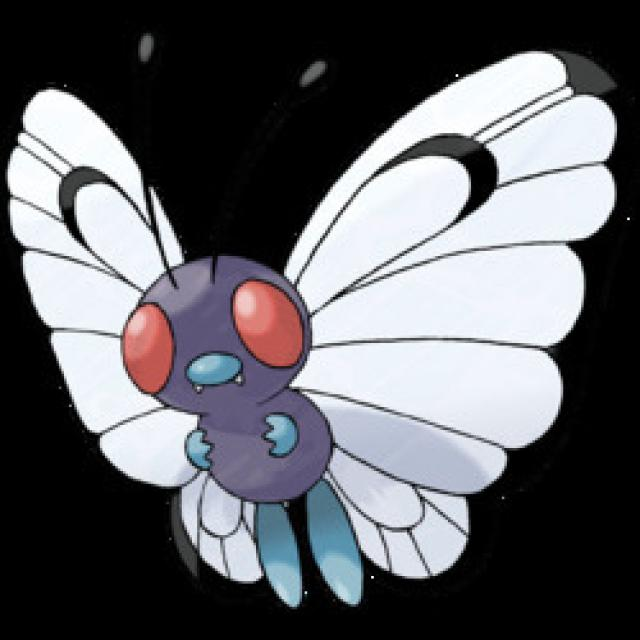Butterfree: (10, 32, 608, 593)
